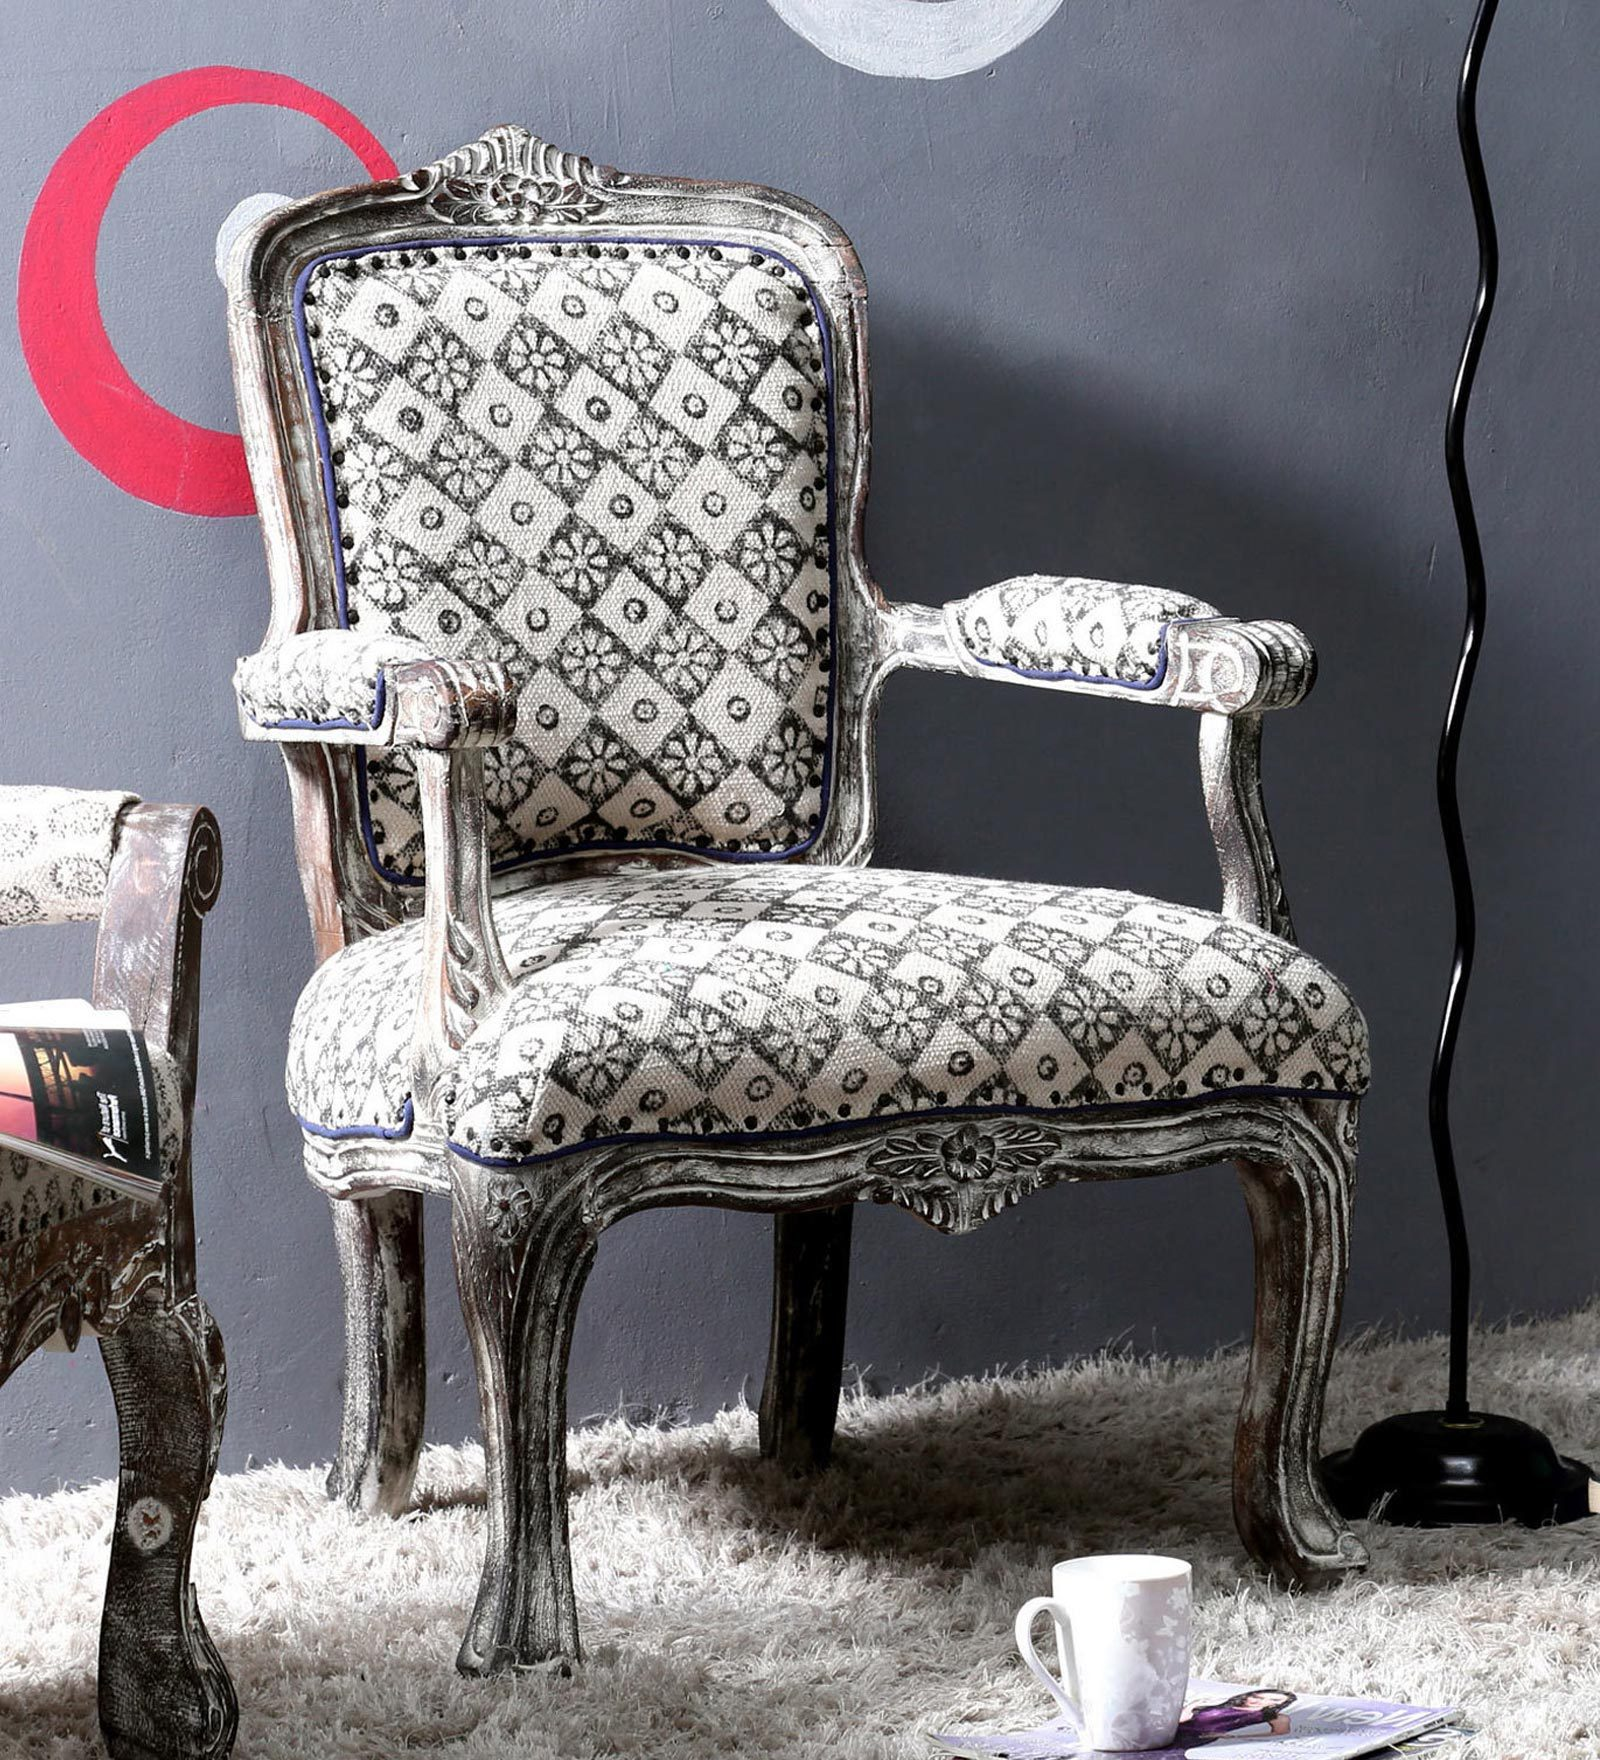Elton Arm Chair in Grey Colour by Bohemiana: (205, 107, 1436, 1689)
